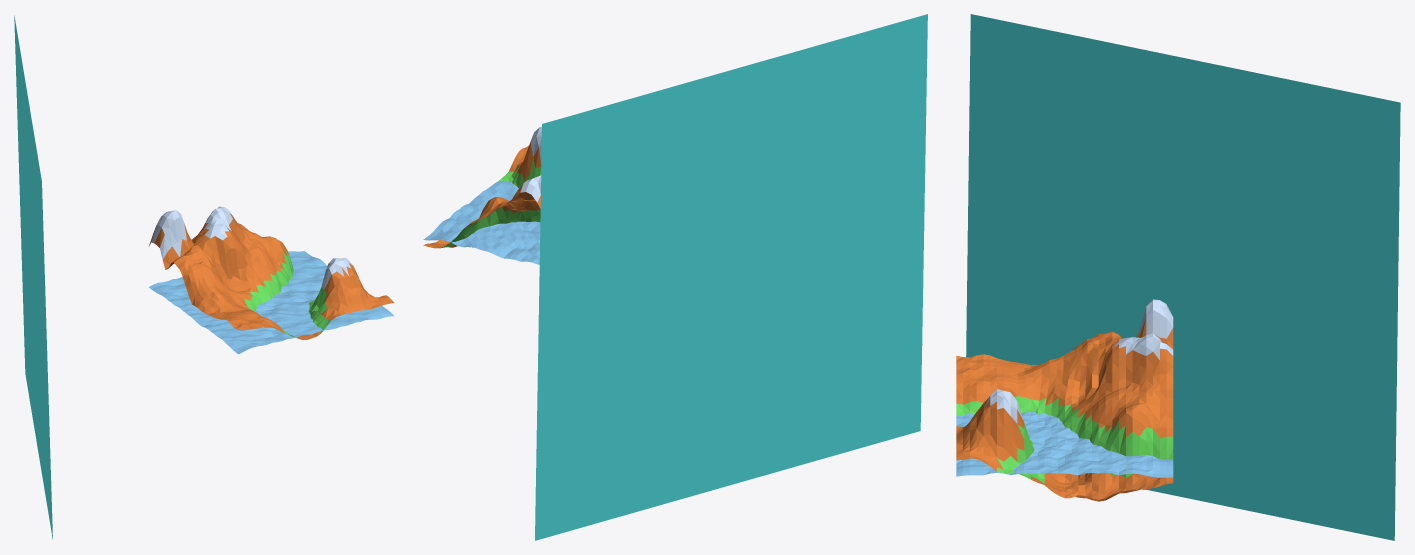
The model's file is myground_map.fbx.
3 renders of one model, left to right at view 1: azimuth 30°, elevation 25°; view 2: azimuth 150°, elevation 25°; view 3: azimuth 270°, elevation 25°, orthographic. The views are drawn at different scales.
Visible parts, largest first — view 1: Ground, Background, Water; view 2: Background, Water, Ground; view 3: Background, Ground, Water.
Part boxes in pixels (bbox=[...]): Ground: bbox=[149, 206, 394, 339]; Background: bbox=[14, 15, 52, 539]; Water: bbox=[149, 251, 394, 354]; Background: bbox=[535, 14, 927, 540]; Water: bbox=[423, 180, 540, 264]; Ground: bbox=[423, 126, 541, 248]; Background: bbox=[966, 14, 1400, 540]; Ground: bbox=[956, 299, 1173, 501]; Water: bbox=[956, 411, 1173, 477].
Bounding box in the file's own units: 444 × 441 × 409.
